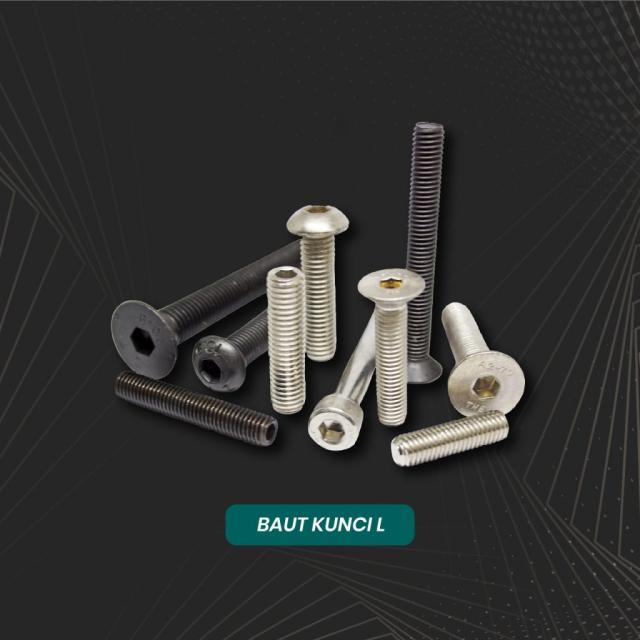Logam: (62, 112, 595, 490)
